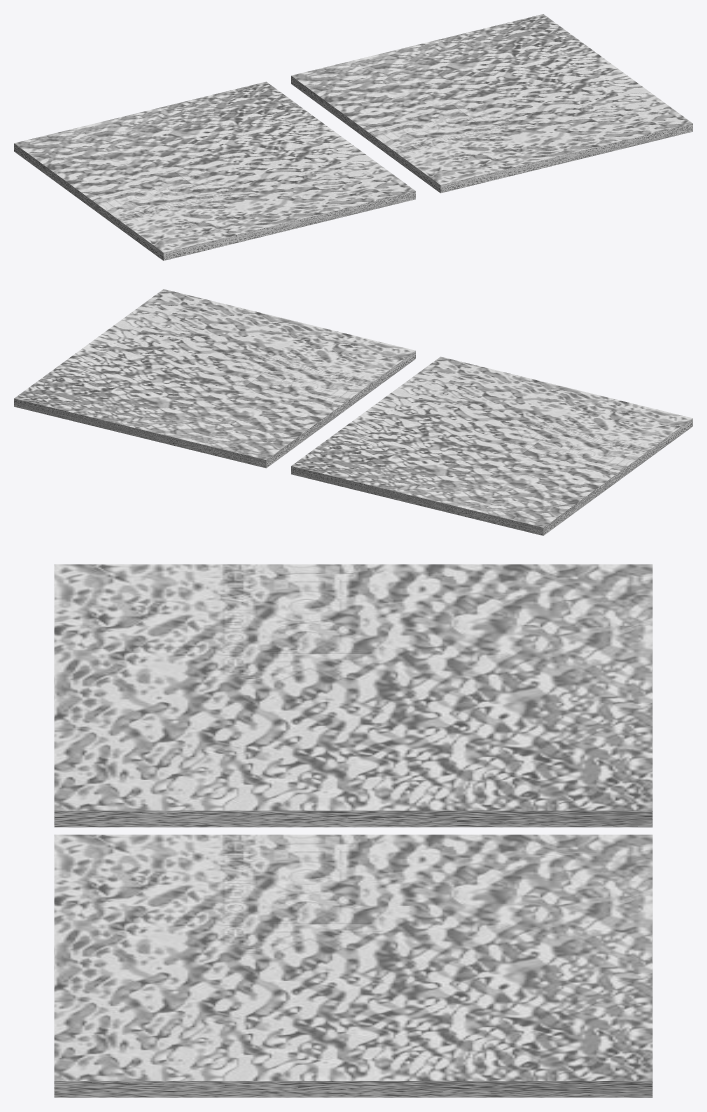
File: Puertas_congelador.obj
3 views of the same model, one above another, from view 1: azimuth 30°, elevation 25°; view 2: azimuth 150°, elevation 25°; view 3: azimuth 270°, elevation 25° (orthographic). The views are drawn at different scales.
Parts seen in each view (by area): view 1: polySurface18; view 2: polySurface18; view 3: polySurface18.
Part boxes in pixels (x1,y1,x2,y2): polySurface18: (14, 14, 692, 260); polySurface18: (14, 289, 692, 535); polySurface18: (54, 564, 652, 1097).
Size of the model in its own units: 4.49 by 0.0668 by 2.2.
Materials: 1 (1 with a texture image).
